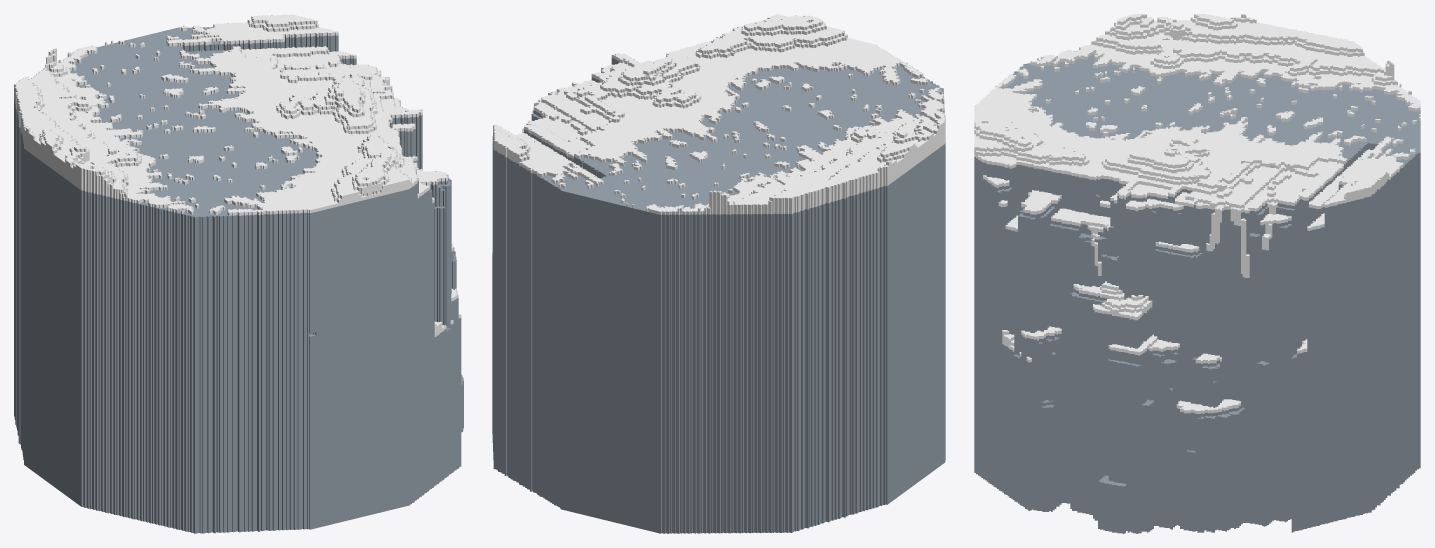
Rendered from factory4.1-4.obj.
3 renders of one model, left to right at view 1: azimuth 30°, elevation 25°; view 2: azimuth 150°, elevation 25°; view 3: azimuth 270°, elevation 25°, orthographic.
Size of the model in its own units: 24.7 by 21.4 by 25.6.
1 material, 1 textured.
